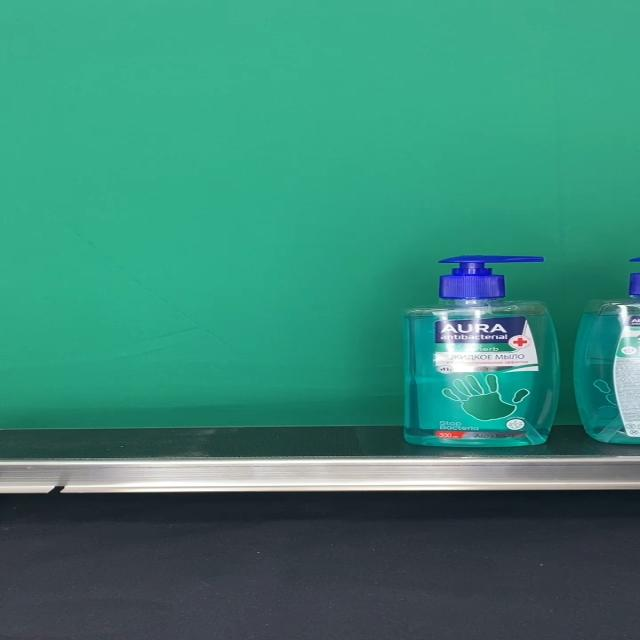Bottle: (401, 255, 561, 447)
Cap: (436, 256, 545, 300)
